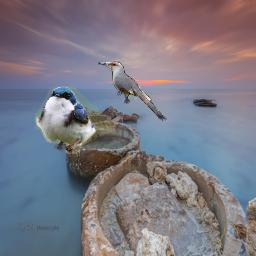Cuckoo: (98, 61, 167, 122)
Swallow: (35, 86, 112, 154)
